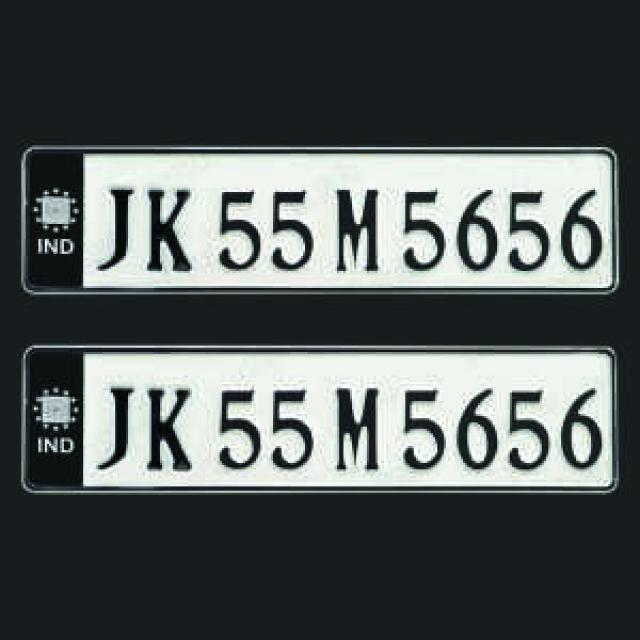plate: (25, 344, 615, 494), (23, 146, 618, 292)
